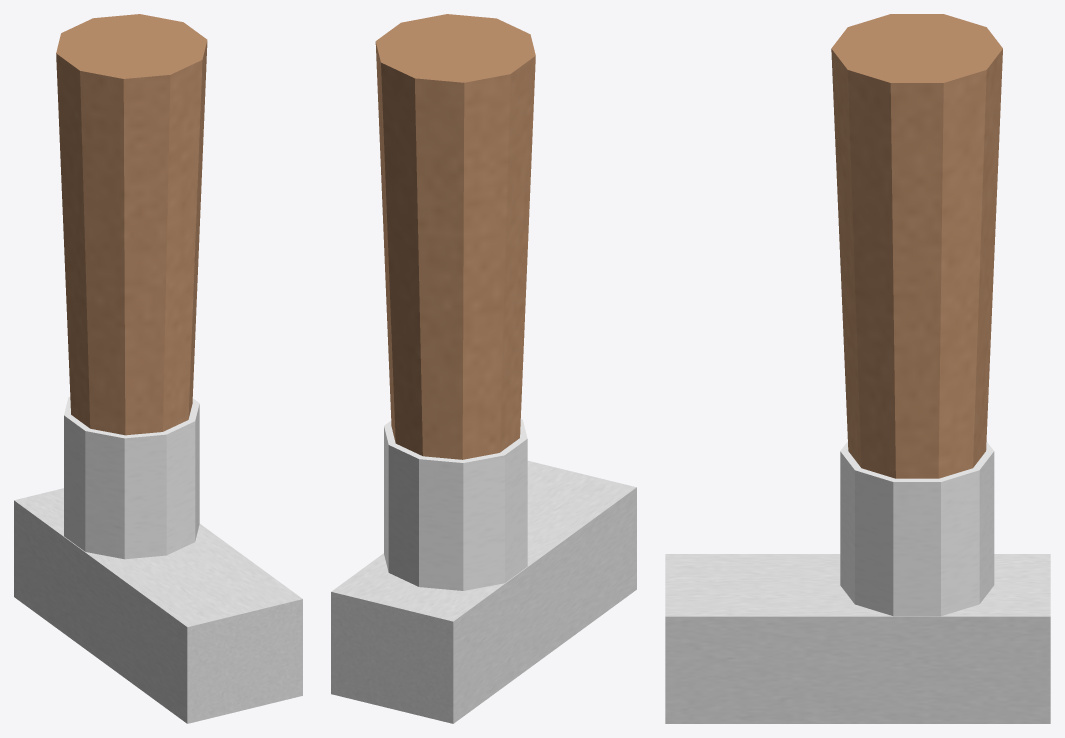
The model's file is JugB_Pierna.obj.
3 renders of one model, left to right at view 1: azimuth 30°, elevation 25°; view 2: azimuth 150°, elevation 25°; view 3: azimuth 270°, elevation 25°, orthographic. The views are drawn at different scales.
Bounding box in the file's own units: 0.1103 × 0.48 × 0.26.
1 material, 1 textured.
